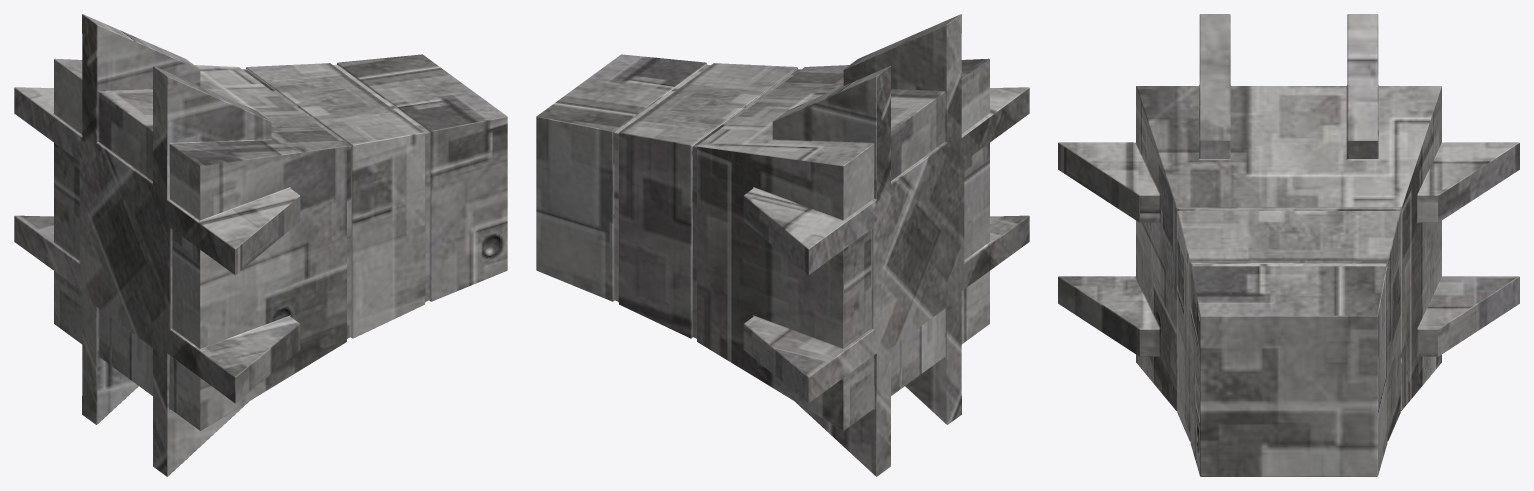
Rendered from deathstar-tower-cannon-base.fbx.
3 renders of one model, left to right at view 1: azimuth 30°, elevation 25°; view 2: azimuth 150°, elevation 25°; view 3: azimuth 270°, elevation 25°, orthographic. The views are drawn at different scales.
Visible parts, largest first — view 1: Cube; view 2: Cube; view 3: Cube.
Part boxes in pixels (<box>): Cube: <box>14,14,507,476</box>; Cube: <box>536,14,1029,476</box>; Cube: <box>1058,14,1519,476</box>.
Bounding box in the file's own units: 403 × 452 × 452.
Materials: 1 (1 with a texture image).
